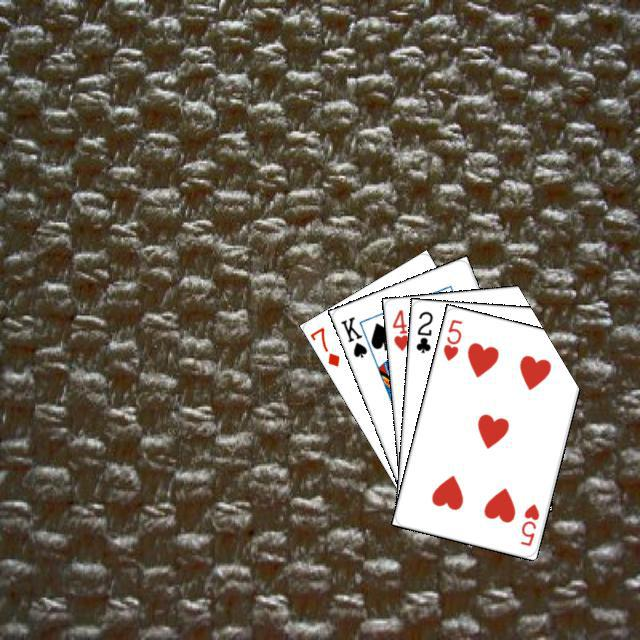2c: (411, 306, 434, 355)
4h: (387, 304, 410, 352)
5h: (438, 314, 464, 363), (515, 499, 541, 548)
7d: (306, 322, 341, 368)
Ks: (336, 311, 369, 360)
